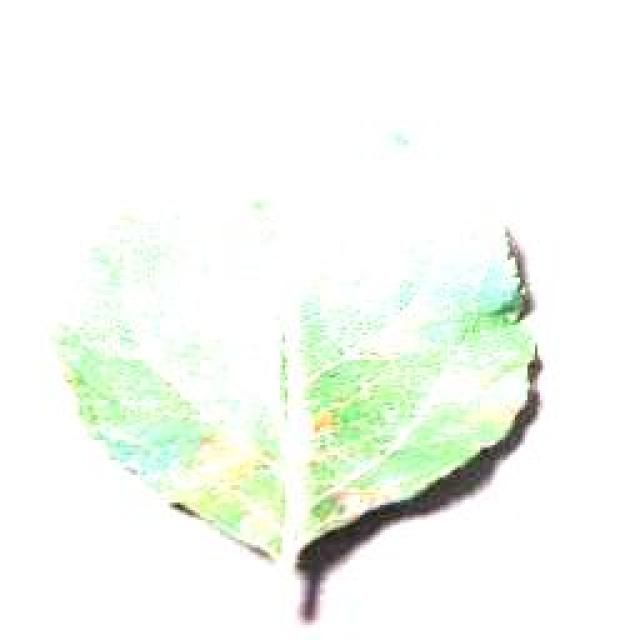apple cedar apple rust: (50, 195, 545, 623)
